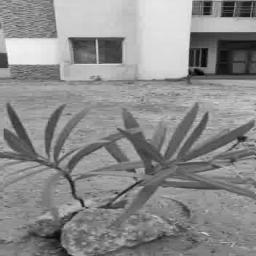OLEANDER: (4, 102, 255, 208)
